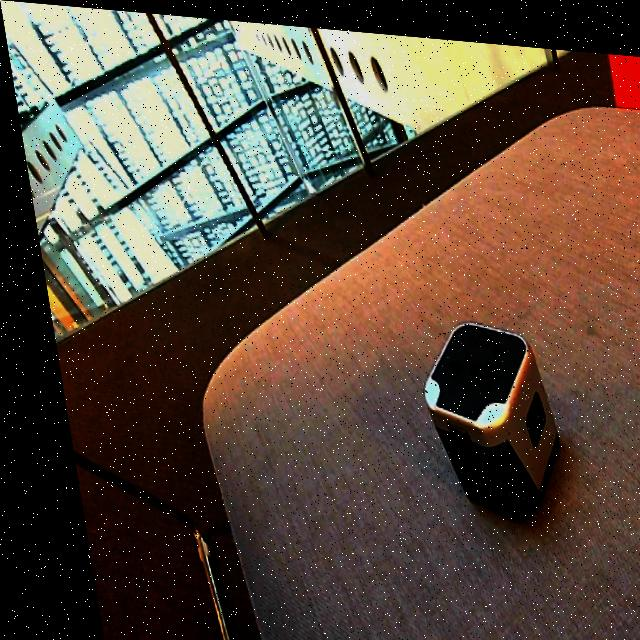adapter: (400, 307, 556, 517)
